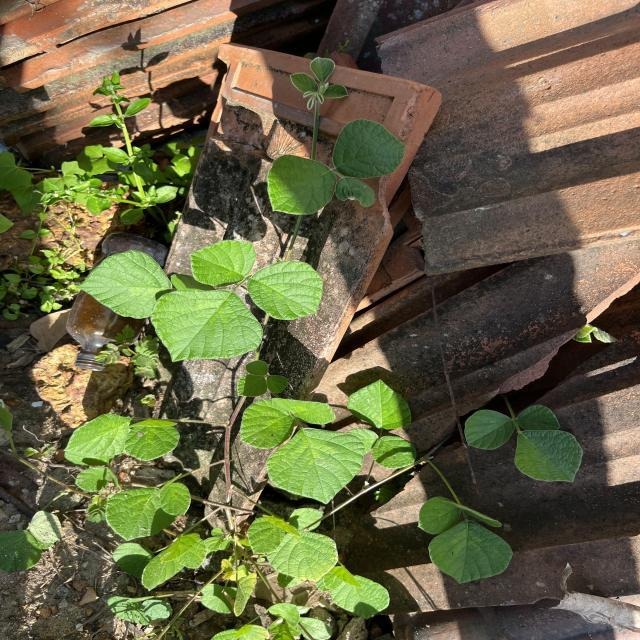Pseudarthria viscida: (147, 238, 326, 362), (236, 394, 368, 506), (265, 116, 409, 218), (461, 402, 586, 485), (416, 496, 514, 586), (247, 512, 341, 584), (62, 412, 182, 464), (286, 55, 351, 101)
